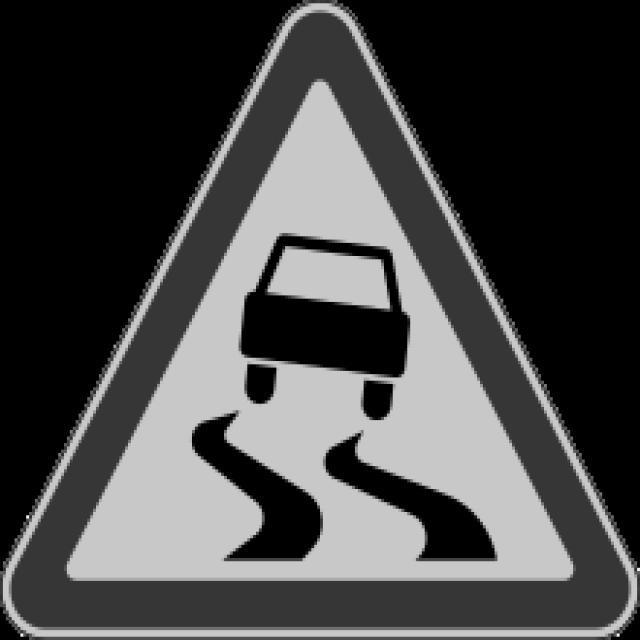slippery road: (24, 19, 618, 623)
